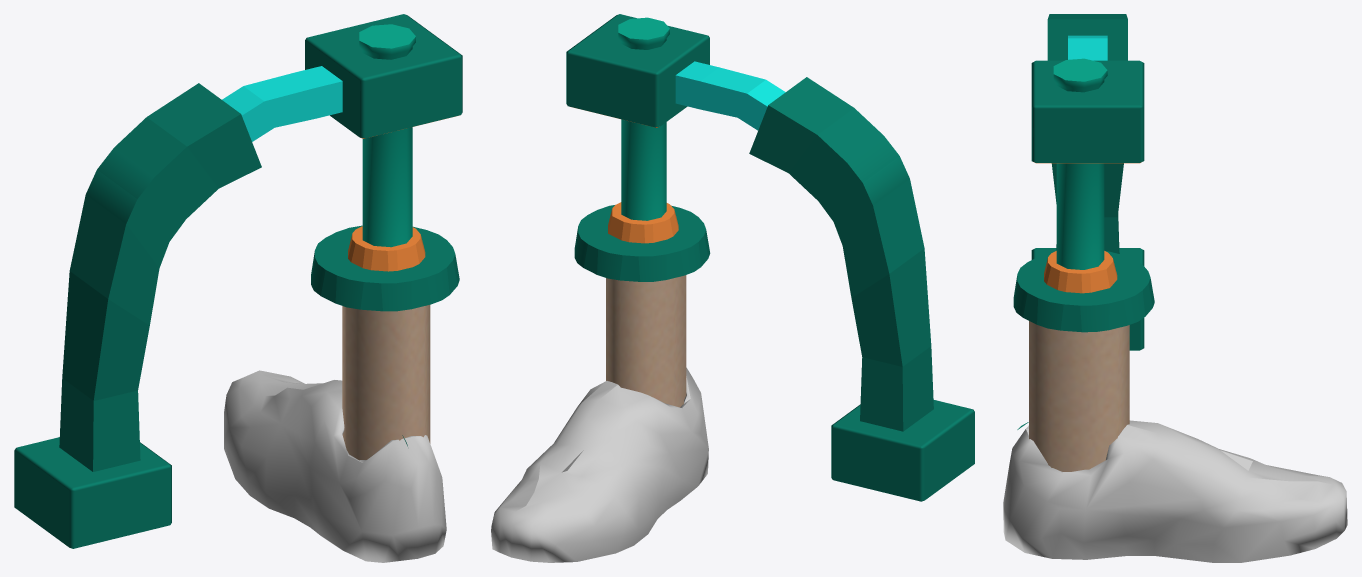
The model's file is Shoes Hurdles.fbx.
The picture shows the model from 3 angles, left to right: view 1: azimuth 30°, elevation 25°; view 2: azimuth 150°, elevation 25°; view 3: azimuth 270°, elevation 25°; orthographic projection. The views are drawn at different scales.
Parts seen in each view (by area): view 1: shoes hurdle, stand, joiner; view 2: shoes hurdle, stand, joiner; view 3: shoes hurdle, stand, joiner.
Part boxes in pixels (x1,y1,x2,y2): shoes hurdle: (224,24,459,562); stand: (59,14,462,471); joiner: (14,437,171,548); shoes hurdle: (491,17,710,562); stand: (566,14,933,431); joiner: (831,400,974,501); shoes hurdle: (1003,58,1347,562); stand: (1031,14,1144,253); joiner: (1031,248,1144,350).
Size of the model in its own units: 788 by 926 by 612.
